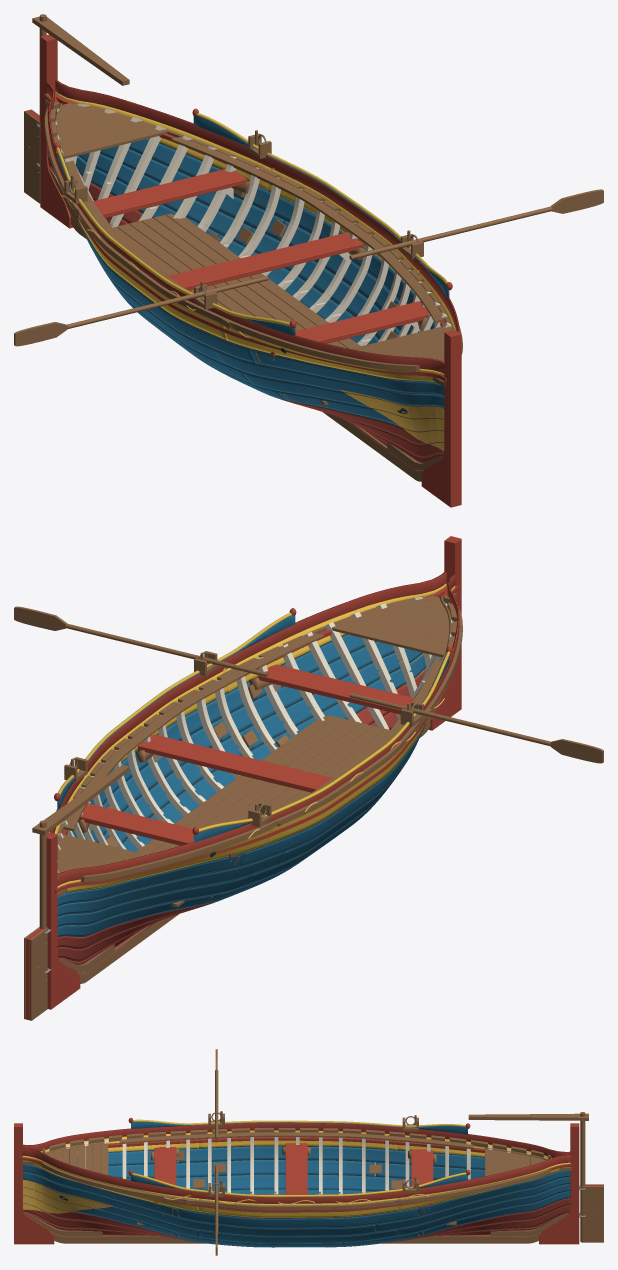
File: luzzu.glb
3 renders of one model, top to bottom at view 1: azimuth 30°, elevation 25°; view 2: azimuth 150°, elevation 25°; view 3: azimuth 270°, elevation 25°, orthographic. The views are drawn at different scales.
Visible parts, largest first — view 1: washboards-173, bow-post-5, thwarts-344, washboards-74, catwalks-204, thwarts-331, planking-52, stern-post-6, thwarts-357, planking-58, moustache-462, planking-57 (+42 smaller); view 2: washboards-173, thwarts-344, washboards-74, catwalks-204, thwarts-357, stern-post-6, planking-50, thwarts-331, planking-57, planking-56, planking-36, planking-151 (+43 smaller); view 3: washboards-173, washboards-74, planking-156, planking-57, planking-37, keel-0, catwalks-105, stern-post-6, bow-post-5, planking-51, moustache-463, sheer-strake-170 (+51 smaller).
Part boxes in pixels (x1=…): washboards-173: x1=55, y1=80, x2=459, y2=332; bow-post-5: x1=421, y1=330, x2=461, y2=507; thwarts-344: x1=168, y1=232, x2=363, y2=290; washboards-74: x1=46, y1=82, x2=444, y2=373; catwalks-204: x1=171, y1=136, x2=444, y2=323; thwarts-331: x1=72, y1=169, x2=246, y2=218; planking-52: x1=213, y1=349, x2=444, y2=407; stern-post-6: x1=40, y1=34, x2=73, y2=228; thwarts-357: x1=270, y1=301, x2=429, y2=356; planking-58: x1=249, y1=348, x2=444, y2=396; moustache-462: x1=340, y1=389, x2=444, y2=451; planking-57: x1=80, y1=223, x2=254, y2=362; washboards-173: x1=50, y1=572, x2=446, y2=833; thwarts-344: x1=138, y1=734, x2=332, y2=792; washboards-74: x1=57, y1=574, x2=459, y2=885; catwalks-204: x1=64, y1=633, x2=323, y2=831; thwarts-357: x1=258, y1=664, x2=414, y2=714; stern-post-6: x1=46, y1=832, x2=80, y2=1009; planking-50: x1=57, y1=851, x2=285, y2=916; thwarts-331: x1=78, y1=803, x2=234, y2=857; planking-57: x1=240, y1=726, x2=424, y2=866; planking-56: x1=57, y1=852, x2=245, y2=906; planking-36: x1=57, y1=874, x2=253, y2=926; planking-151: x1=214, y1=641, x2=394, y2=739; washboards-173: x1=22, y1=1147, x2=570, y2=1203; washboards-74: x1=23, y1=1123, x2=570, y2=1157; planking-156: x1=178, y1=1208, x2=417, y2=1228; planking-57: x1=178, y1=1146, x2=411, y2=1164; planking-37: x1=199, y1=1174, x2=397, y2=1191; keel-0: x1=65, y1=1235, x2=527, y2=1243; catwalks-105: x1=119, y1=1132, x2=473, y2=1149; stern-post-6: x1=539, y1=1123, x2=579, y2=1244; bow-post-5: x1=14, y1=1123, x2=54, y2=1244; planking-51: x1=219, y1=1160, x2=375, y2=1176; moustache-463: x1=23, y1=1179, x2=113, y2=1213; sheer-strake-170: x1=199, y1=1198, x2=397, y2=1217.
Size of the model in its own units: 6.46 by 1.97 by 8.14.
